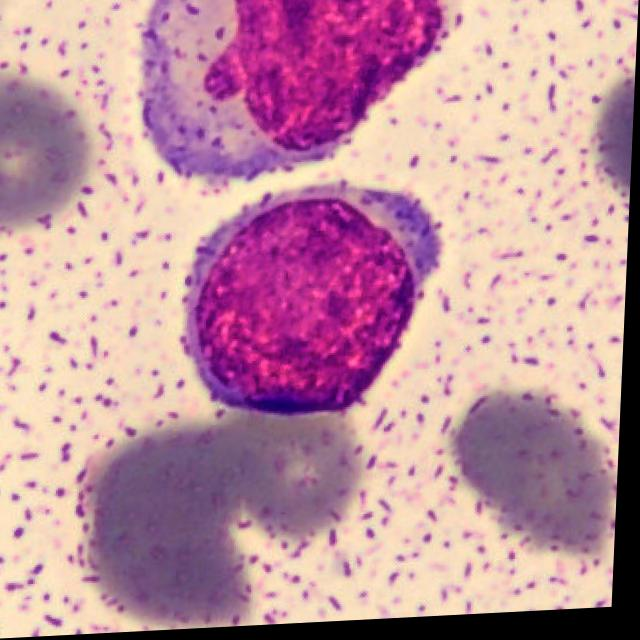Mieloblasto: (184, 188, 442, 422), (145, 0, 446, 181)
